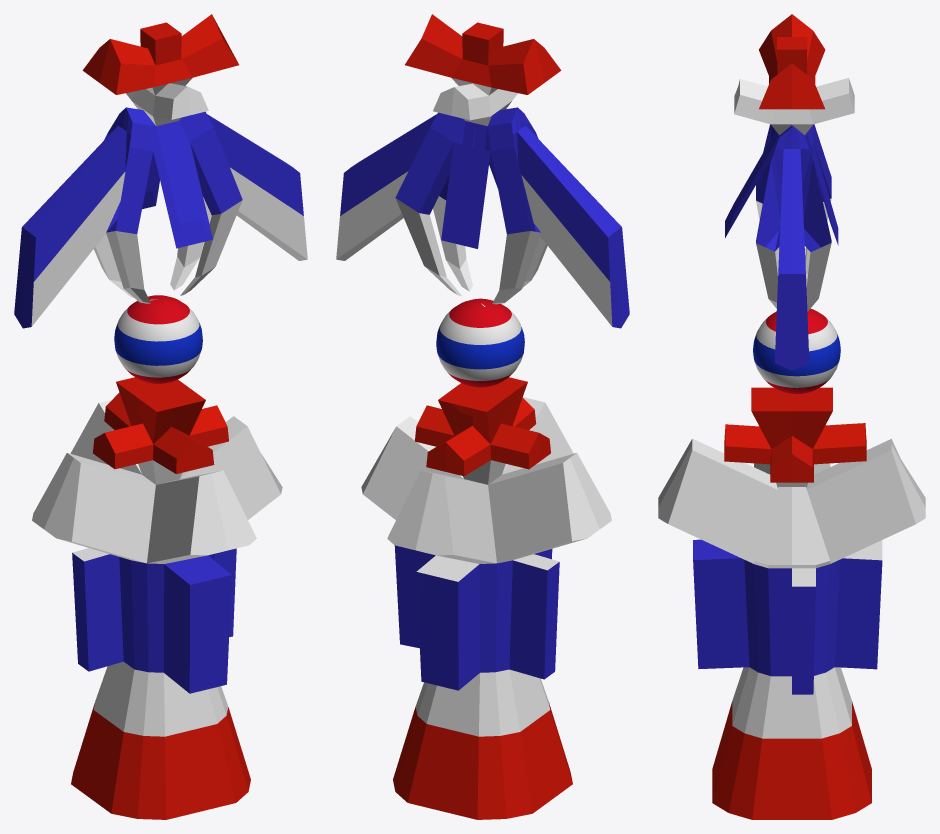
Rendered from towerUltimate.fbx.
3 views of the same model, side by side, from view 1: azimuth 30°, elevation 25°; view 2: azimuth 150°, elevation 25°; view 3: azimuth 270°, elevation 25° (orthographic).
Parts seen in each view (by area): view 1: Sphere; view 2: Sphere; view 3: Sphere.
Part boxes in pixels (x1,y1,x2,y2): Sphere: (14,14,307,819); Sphere: (336,14,629,819); Sphere: (658,14,925,819).
Size of the model in its own units: 927 by 2424 by 786.
